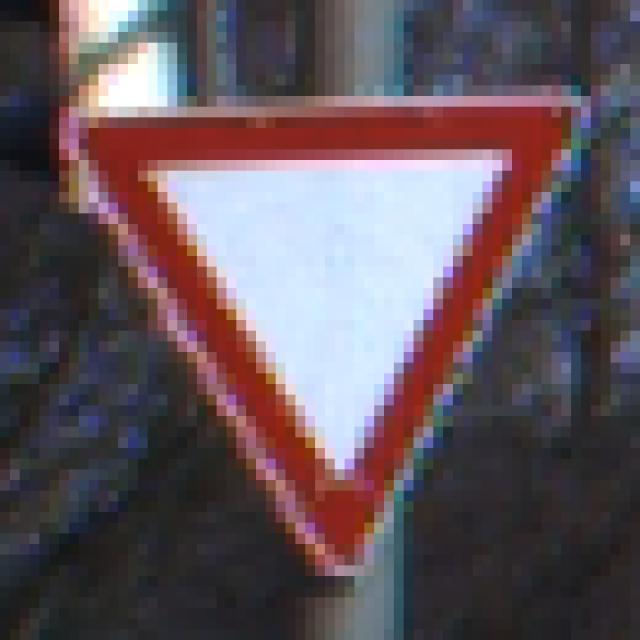Give Way: (60, 65, 592, 588)
